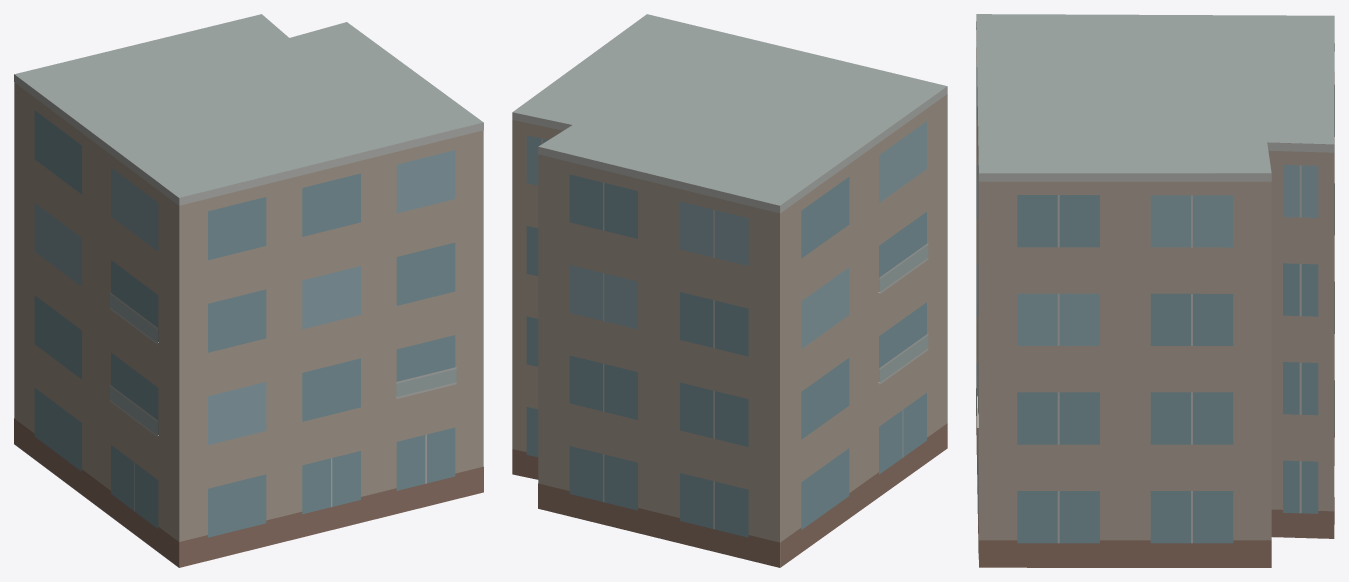
File: survey-upis-32979905.glb
The picture shows the model from 3 angles, left to right: view 1: azimuth 30°, elevation 25°; view 2: azimuth 150°, elevation 25°; view 3: azimuth 270°, elevation 25°; orthographic projection. The views are drawn at different scales.
Visible parts, largest first — view 1: survey-upis-32979905.tmp; view 2: survey-upis-32979905.tmp; view 3: survey-upis-32979905.tmp.
Part boxes in pixels (left/top/right/bottom): survey-upis-32979905.tmp: left=14, top=14, right=483, bottom=567; survey-upis-32979905.tmp: left=512, top=14, right=947, bottom=567; survey-upis-32979905.tmp: left=976, top=14, right=1334, bottom=567.
Size of the model in its own units: 10.08 by 11.6 by 9.57.
